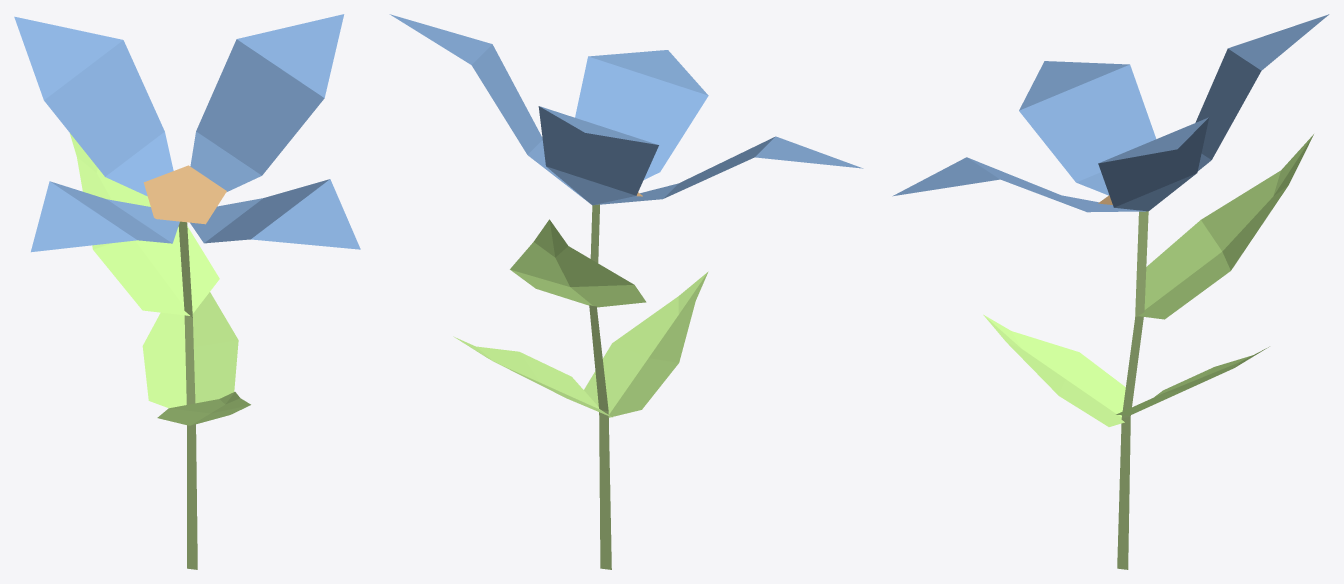
File: Flower_a_OneS_09.fbx
3 renders of one model, left to right at view 1: azimuth 30°, elevation 25°; view 2: azimuth 150°, elevation 25°; view 3: azimuth 270°, elevation 25°, orthographic. The views are drawn at different scales.
Parts seen in each view (by area): view 1: Flower_a_OneS_09; view 2: Flower_a_OneS_09; view 3: Flower_a_OneS_09.
Part boxes in pixels (x1,y1,x2,y2): Flower_a_OneS_09: (14,14,360,569); Flower_a_OneS_09: (389,14,863,569); Flower_a_OneS_09: (892,14,1329,569).
Bounding box in the file's own units: 0.5442 × 0.6846 × 0.5287.
